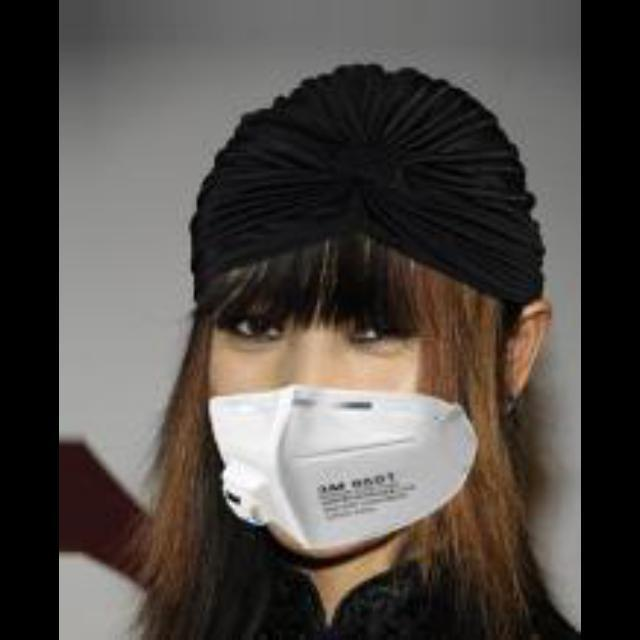suspicion: (163, 156, 562, 572)
